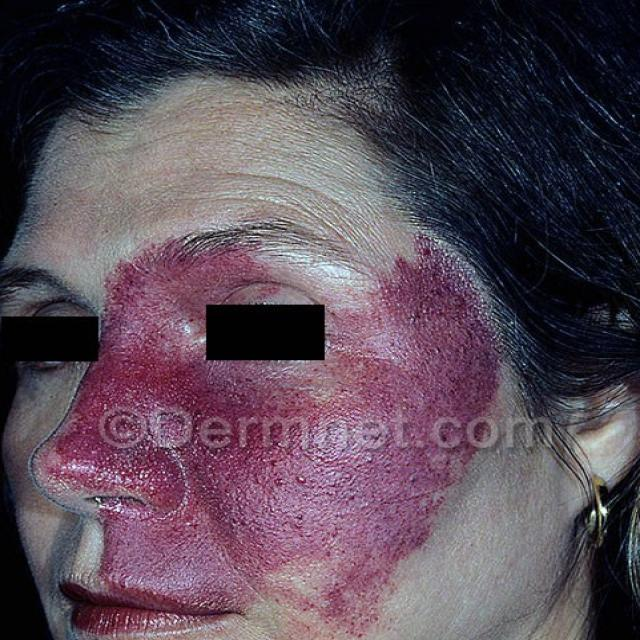Vascular Tumors: (49, 199, 584, 640)
